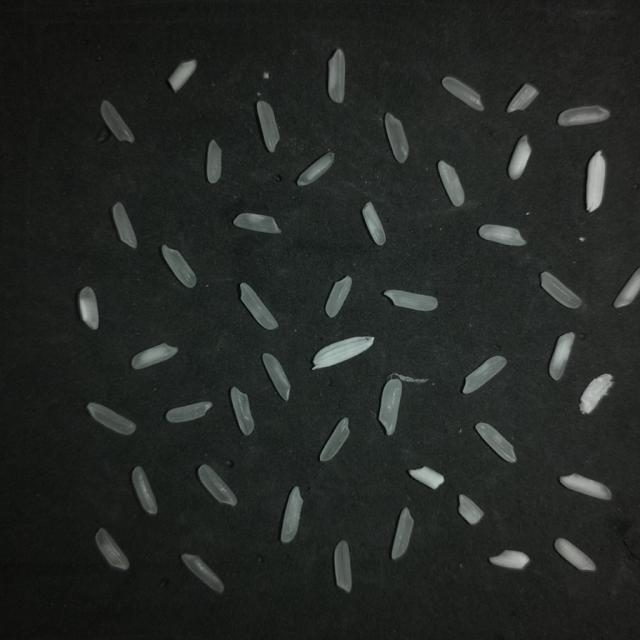chalky: (442, 77, 483, 111), (554, 539, 596, 571), (559, 474, 611, 499), (297, 152, 334, 186), (281, 487, 303, 543), (379, 379, 401, 435), (131, 343, 178, 369), (549, 332, 574, 380), (438, 161, 464, 206), (362, 202, 386, 245), (508, 135, 531, 179), (479, 225, 526, 246), (614, 269, 639, 308), (234, 213, 281, 233), (168, 60, 196, 92), (78, 287, 99, 329), (507, 84, 538, 112), (409, 466, 444, 489), (489, 550, 529, 569), (459, 495, 483, 524)
foreign: (312, 337, 374, 369), (580, 374, 613, 414), (586, 151, 606, 212)
whole: (240, 283, 278, 329), (462, 356, 506, 394), (475, 423, 516, 463), (182, 554, 224, 593), (87, 402, 136, 435), (198, 465, 237, 506), (540, 272, 581, 308), (162, 245, 196, 288), (95, 529, 129, 570), (101, 101, 134, 143), (320, 417, 350, 462), (262, 354, 290, 401), (132, 467, 158, 514), (112, 202, 137, 248), (385, 113, 408, 163), (392, 507, 414, 559), (325, 276, 352, 318), (257, 101, 279, 152), (384, 290, 437, 311), (231, 387, 254, 435), (558, 106, 609, 126), (166, 402, 212, 423), (328, 49, 345, 103), (334, 540, 351, 593), (207, 140, 221, 183)
